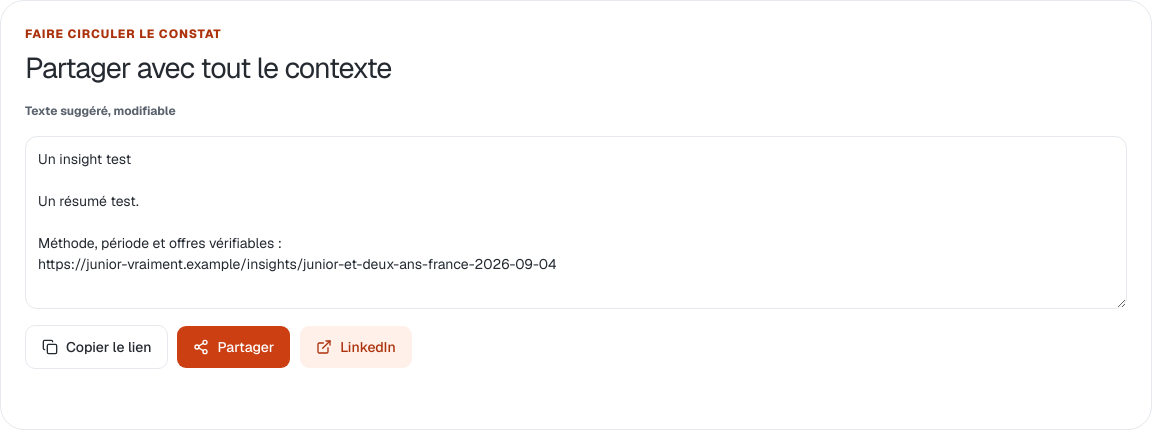
InsightShare › opens LinkedIn with an encoded, attributed insight URL
The width and height of the screenshot is (1152, 447).
Click the button "LinkedIn". click: (356, 346)
box: [299,324,413,368]
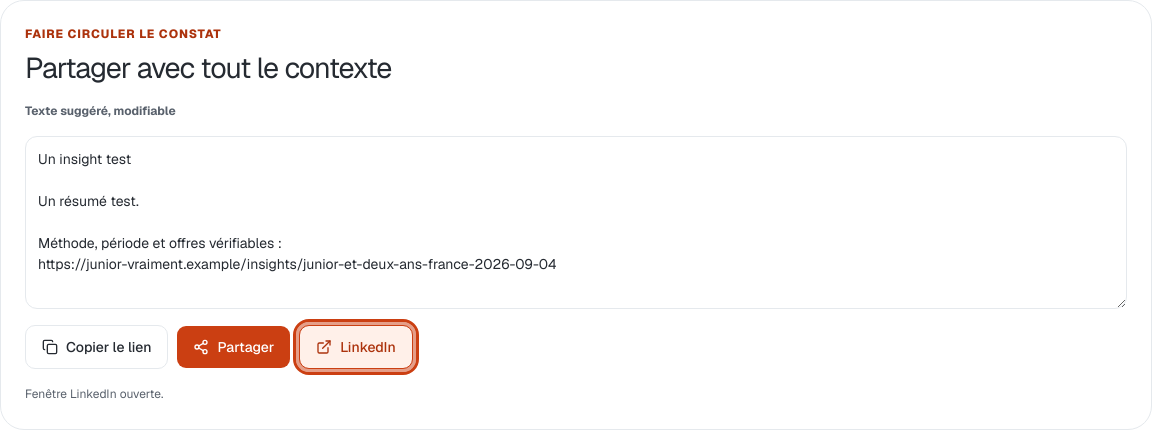
Check: the text "Fenêtre LinkedIn ouverte." is shown, box [25,386,163,402]
